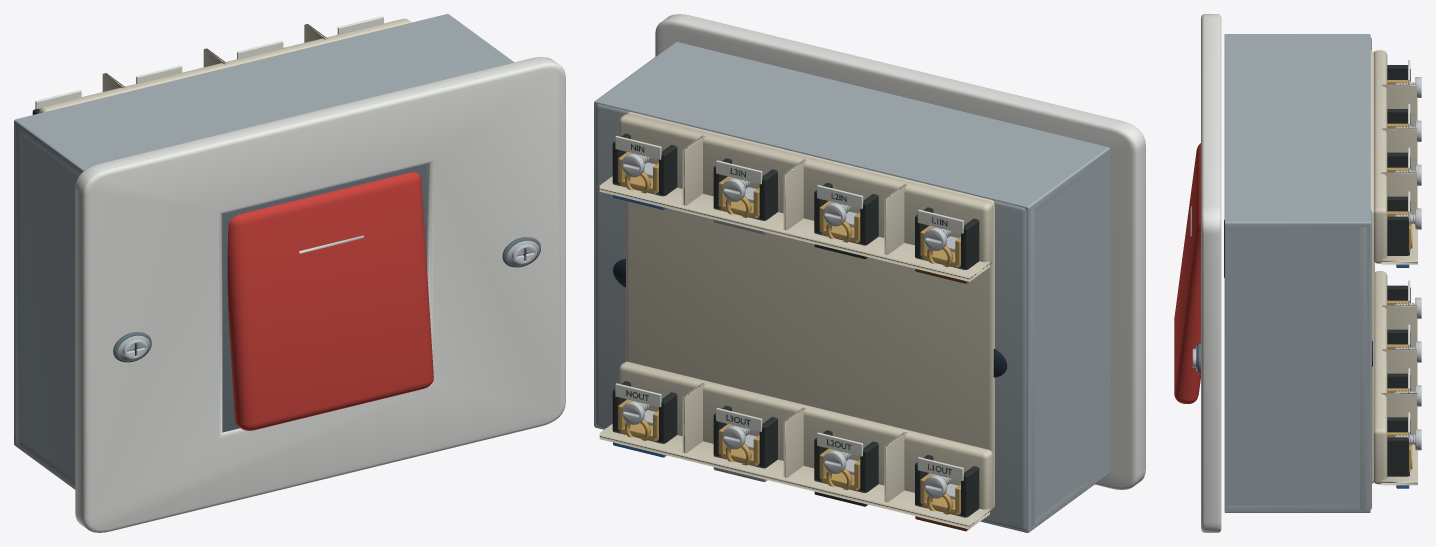
Rendered from isolator3_red-isolator-rocker.glb.
3 renders of one model, left to right at view 1: azimuth 30°, elevation 25°; view 2: azimuth 150°, elevation 25°; view 3: azimuth 270°, elevation 25°, orthographic. The views are drawn at different scales.
Visible parts, largest first — view 1: part:cover, part:body · Original 2a8198d3, motion:rocker, part:actuator, part:terminals · Original 5a609f27, detail:faceplate-fixing · Detail zinc plated fixing, part:cover · Original 0905ee26; view 2: part:terminals · Original 5a609f27, part:body · Original 2a8198d3, part:cover, detail:terminal-clamp:L2IN · Detail moulded engineering poly, detail:terminal-clamp:L2OUT · Detail moulded engineering pol, detail:terminal-clamp:NOUT · Detail moulded engineering poly, detail:terminal-clamp:NIN · Detail moulded engineering polym, detail:terminal-clamp:L1OUT · Detail moulded engineering pol, detail:terminal-clamp:L3IN · Detail moulded engineering poly, detail:terminal-clamp:L1IN · Detail moulded engineering poly, detail:terminal-clamp:L3OUT · Detail moulded engineering pol, detail:terminal-clamp:L2IN · Detail machined brass (+13 smaller); view 3: part:body · Original 2a8198d3, part:terminals · Original 5a609f27, part:cover, motion:rocker, detail:terminal-clamp:NOUT · Detail moulded engineering poly, detail:terminal-clamp:NIN · Detail moulded engineering polym, detail:terminal-clamp:L2OUT · Detail moulded engineering pol, detail:terminal-clamp:L3IN · Detail moulded engineering poly, detail:terminal-clamp:L3OUT · Detail moulded engineering pol, detail:terminal-clamp:L1OUT · Detail moulded engineering pol, detail:terminal-clamp:L1IN · Detail moulded engineering poly, detail:terminal-clamp:L2IN · Detail moulded engineering poly.
Part boxes in pixels (<box>): part:cover: <box>75,57,565,532</box>; part:body · Original 2a8198d3: <box>14,14,513,489</box>; motion:rocker: <box>227,172,433,430</box>; part:actuator: <box>222,164,427,432</box>; part:terminals · Original 5a609f27: <box>39,18,411,113</box>; detail:faceplate-fixing · Detail zinc plated fixing: <box>122,244,537,359</box>; part:cover · Original 0905ee26: <box>113,237,540,362</box>; part:terminals · Original 5a609f27: <box>599,111,994,529</box>; part:body · Original 2a8198d3: <box>594,42,1110,532</box>; part:cover: <box>655,14,1145,489</box>; detail:terminal-clamp:L2IN · Detail moulded engineering poly: <box>814,183,878,259</box>; detail:terminal-clamp:L2OUT · Detail moulded engineering pol: <box>814,430,878,506</box>; detail:terminal-clamp:NOUT · Detail moulded engineering poly: <box>612,381,677,443</box>; detail:terminal-clamp:NIN · Detail moulded engineering polym: <box>612,133,677,196</box>; detail:terminal-clamp:L1OUT · Detail moulded engineering pol: <box>915,455,979,517</box>; detail:terminal-clamp:L3IN · Detail moulded engineering poly: <box>713,158,777,220</box>; detail:terminal-clamp:L1IN · Detail moulded engineering poly: <box>915,207,979,269</box>; detail:terminal-clamp:L3OUT · Detail moulded engineering pol: <box>713,405,777,468</box>; detail:terminal-clamp:L2IN · Detail machined brass: <box>819,201,860,243</box>; part:body · Original 2a8198d3: <box>1224,34,1371,512</box>; part:terminals · Original 5a609f27: <box>1370,50,1417,485</box>; part:cover: <box>1201,14,1221,532</box>; motion:rocker: <box>1174,143,1200,403</box>; detail:terminal-clamp:NOUT · Detail moulded engineering poly: <box>1387,417,1409,476</box>; detail:terminal-clamp:NIN · Detail moulded engineering polym: <box>1387,196,1409,255</box>; detail:terminal-clamp:L2OUT · Detail moulded engineering pol: <box>1387,329,1407,344</box>; detail:terminal-clamp:L3IN · Detail moulded engineering poly: <box>1387,152,1407,167</box>; detail:terminal-clamp:L3OUT · Detail moulded engineering pol: <box>1387,373,1407,388</box>; detail:terminal-clamp:L1OUT · Detail moulded engineering pol: <box>1387,285,1407,300</box>; detail:terminal-clamp:L1IN · Detail moulded engineering poly: <box>1387,65,1407,79</box>; detail:terminal-clamp:L2IN · Detail moulded engineering poly: <box>1387,109,1407,123</box>.
Size of the model in its own units: 1.22 by 0.8723 by 0.6055.
